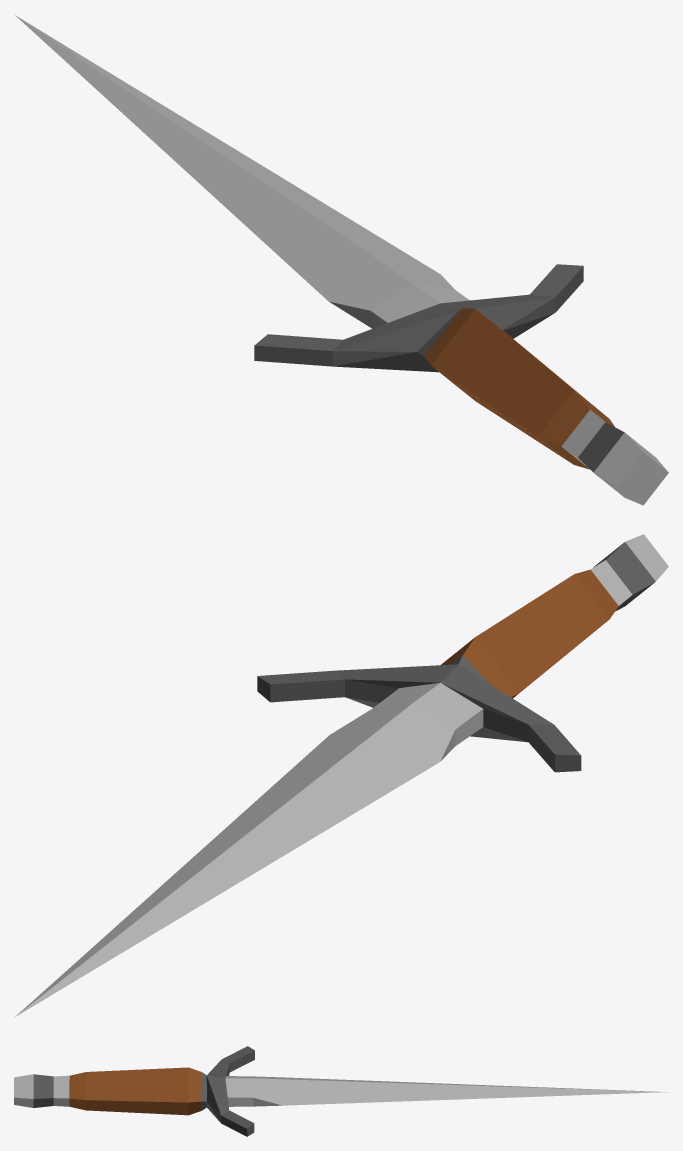
The model's file is Low Poly Weapon Pack - by Kickin It Studios.fbx_Dagger.fbx.
3 views of the same model, one above another, from view 1: azimuth 30°, elevation 25°; view 2: azimuth 150°, elevation 25°; view 3: azimuth 270°, elevation 25° (orthographic). The views are drawn at different scales.
Visible parts, largest first — view 1: Dagger; view 2: Dagger; view 3: Dagger.
Boxes of the visible parts, x1,y1,x2,y2 form: Dagger: (15, 15, 668, 505); Dagger: (14, 534, 668, 1017); Dagger: (14, 1046, 667, 1136).
Size of the model in its own units: 19.82 by 5.34 by 66.14.
